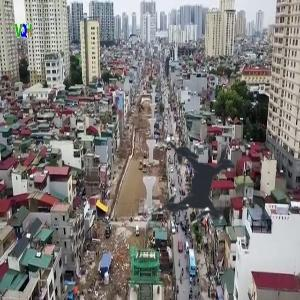drone: (111, 101, 279, 269)
